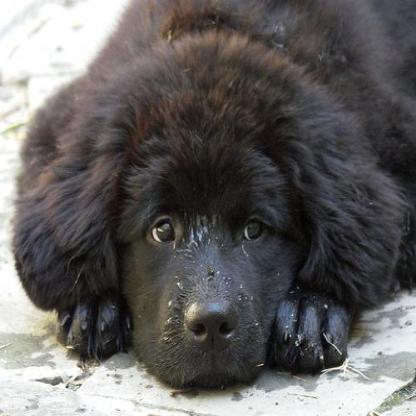Newfoundland: (9, 0, 414, 395)
